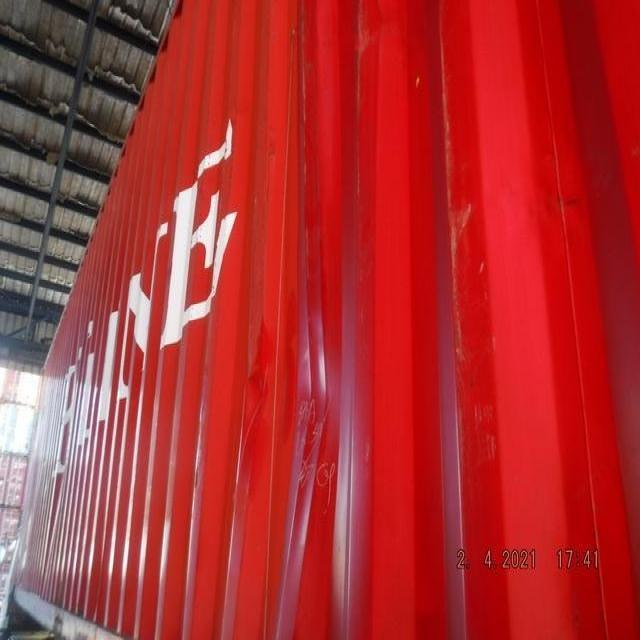Dent: (195, 256, 379, 568)
